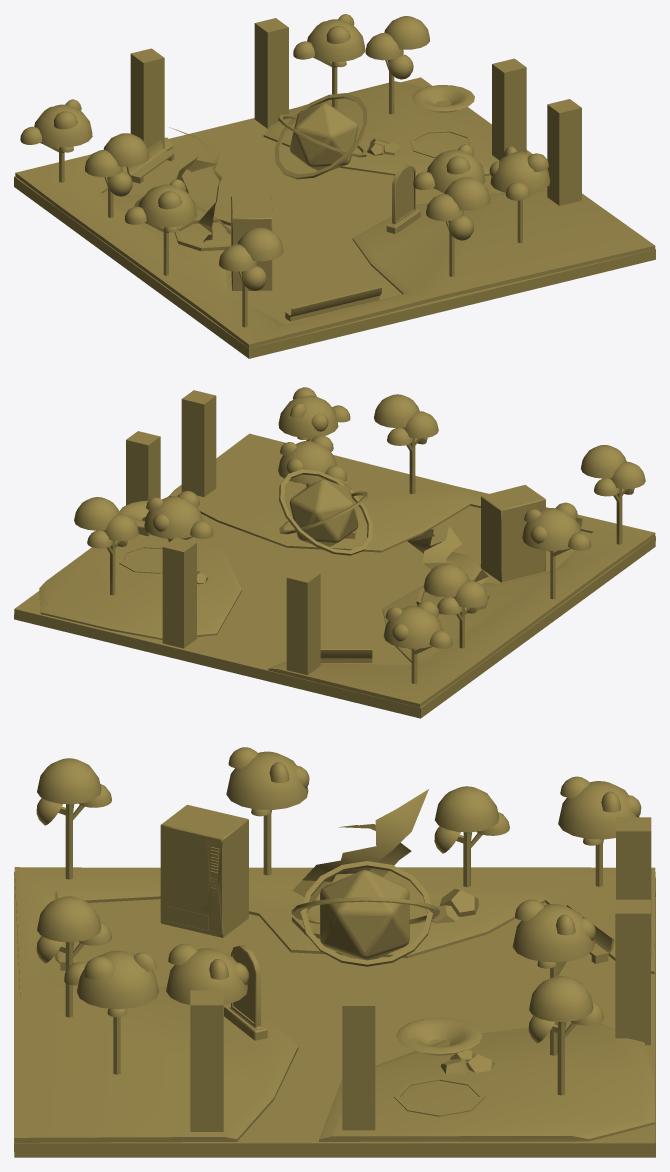
File: urban_park.fbx
3 renders of one model, top to bottom at view 1: azimuth 30°, elevation 25°; view 2: azimuth 150°, elevation 25°; view 3: azimuth 270°, elevation 25°, orthographic. The views are drawn at different scales.
Parts seen in each view (by area): view 1: urban_park_1; view 2: urban_park_1; view 3: urban_park_1.
Part boxes in pixels (x1=…): urban_park_1: x1=14, y1=14, x2=655, y2=358; urban_park_1: x1=14, y1=387, x2=655, y2=718; urban_park_1: x1=14, y1=747, x2=655, y2=1157.
Size of the model in its own units: 428 by 124 by 400.
